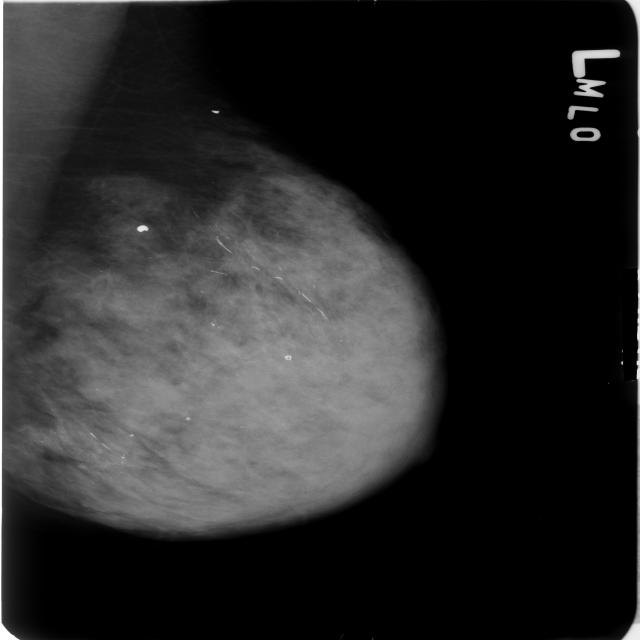normal: (0, 0, 468, 542)
